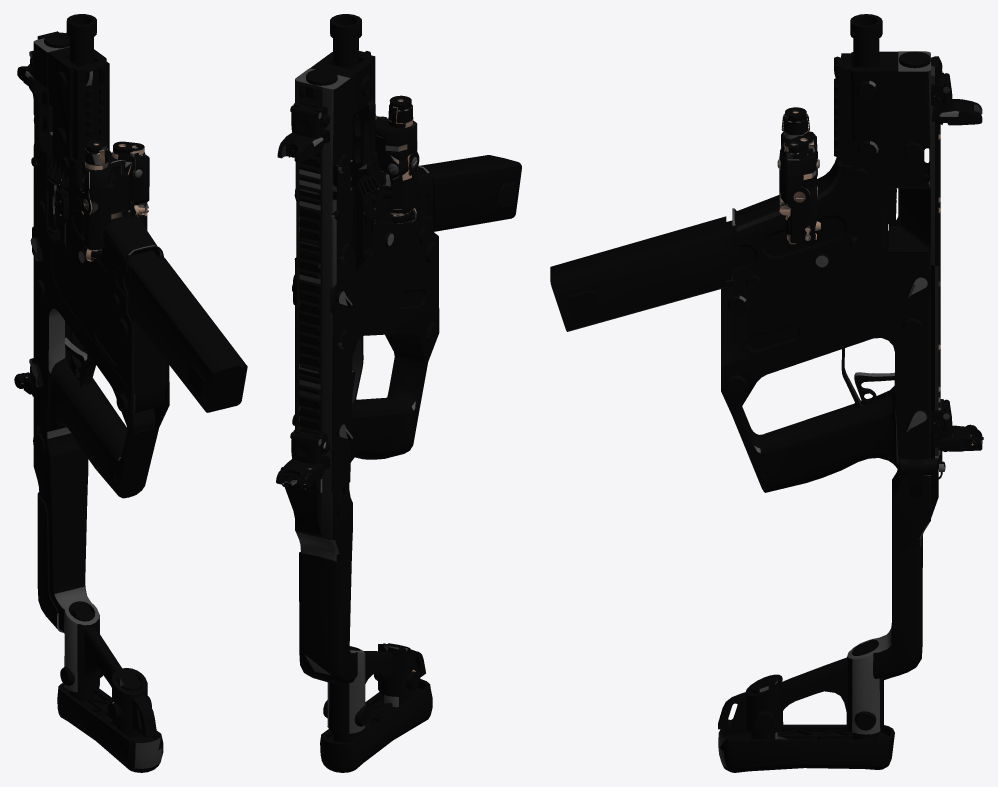
The model's file is KrissVector__Laser_Rifle.fbx.
The picture shows the model from 3 angles, left to right: view 1: azimuth 30°, elevation 25°; view 2: azimuth 150°, elevation 25°; view 3: azimuth 270°, elevation 25°; orthographic projection. The views are drawn at different scales.
Parts seen in each view (by area): view 1: asset_KrissVector.001; view 2: asset_KrissVector.001; view 3: asset_KrissVector.001.
Boxes of the visible parts, x1=… form: asset_KrissVector.001: x1=14, y1=14, x2=247, y2=772; asset_KrissVector.001: x1=276, y1=14, x2=521, y2=772; asset_KrissVector.001: x1=550, y1=14, x2=983, y2=772.
Bounding box in the file's own units: 0.0319 × 0.312 × 0.1639.
